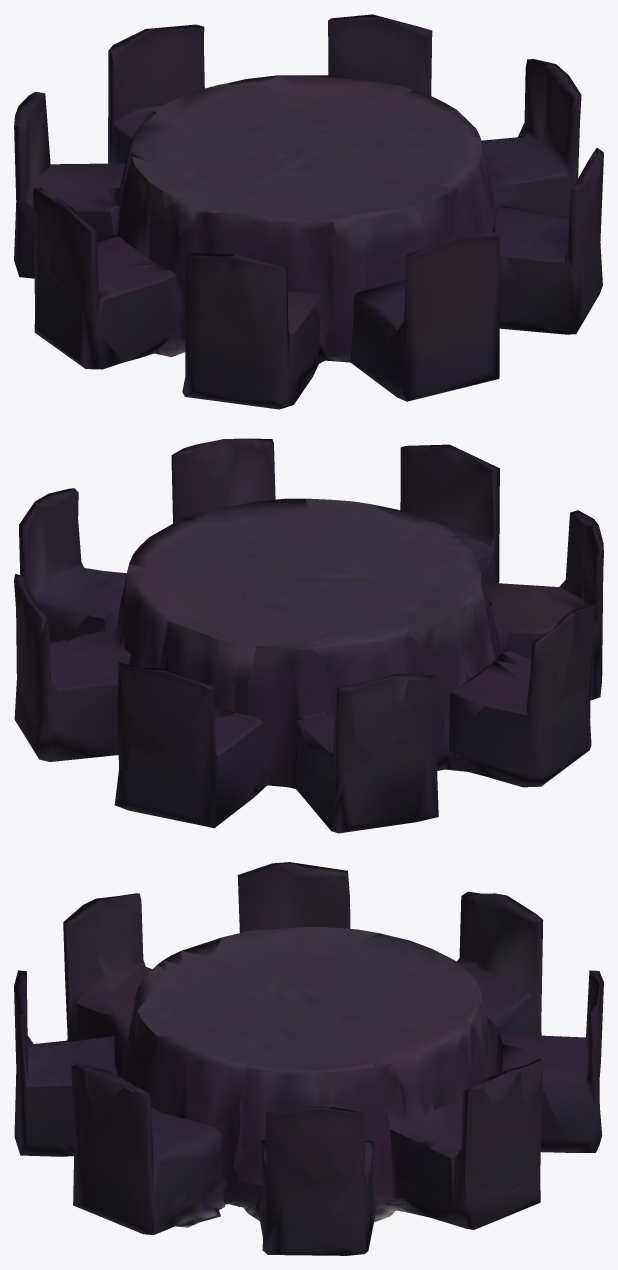
File: meja_kursi_hitam_lod2.glb
3 renders of one model, top to bottom at view 1: azimuth 30°, elevation 25°; view 2: azimuth 150°, elevation 25°; view 3: azimuth 270°, elevation 25°, orthographic. The views are drawn at different scales.
Visible parts, largest first — view 1: tripo_node_147e4dc6-0b15-496d-9336-84a73a7f5ab1; view 2: tripo_node_147e4dc6-0b15-496d-9336-84a73a7f5ab1; view 3: tripo_node_147e4dc6-0b15-496d-9336-84a73a7f5ab1.
Part boxes in pixels (<box>): tripo_node_147e4dc6-0b15-496d-9336-84a73a7f5ab1: <box>14,14,603,409</box>; tripo_node_147e4dc6-0b15-496d-9336-84a73a7f5ab1: <box>14,438,603,833</box>; tripo_node_147e4dc6-0b15-496d-9336-84a73a7f5ab1: <box>14,862,603,1255</box>.
Bounding box in the file's own units: 0.9985 × 0.283 × 0.9993.
1 material, 1 textured.
